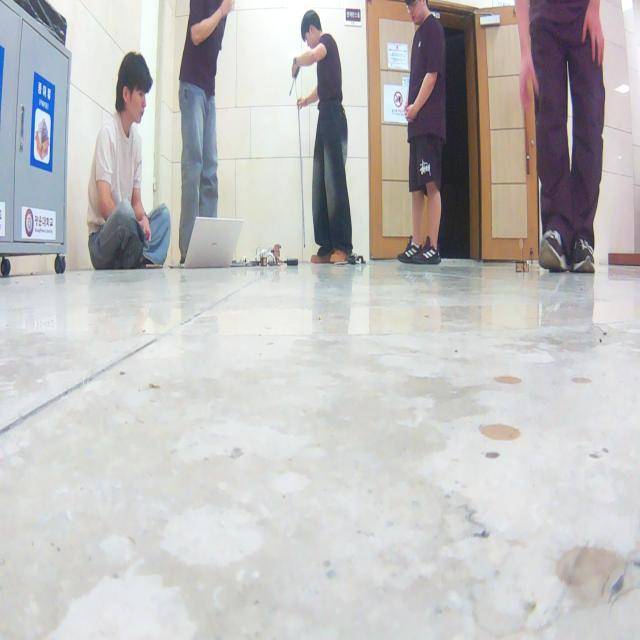target: (515, 238, 529, 273)
